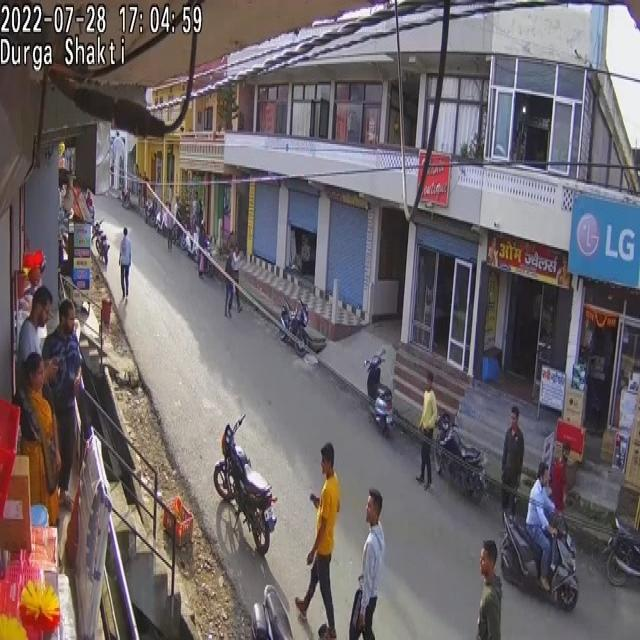non-fight: (294, 440, 340, 636), (44, 300, 84, 494), (19, 352, 61, 526), (352, 488, 384, 640), (526, 459, 560, 592), (17, 286, 51, 381), (501, 406, 525, 520), (475, 538, 501, 640), (416, 372, 438, 486), (224, 238, 244, 318), (118, 227, 132, 303), (198, 222, 210, 277), (188, 182, 204, 217), (166, 203, 175, 250)
